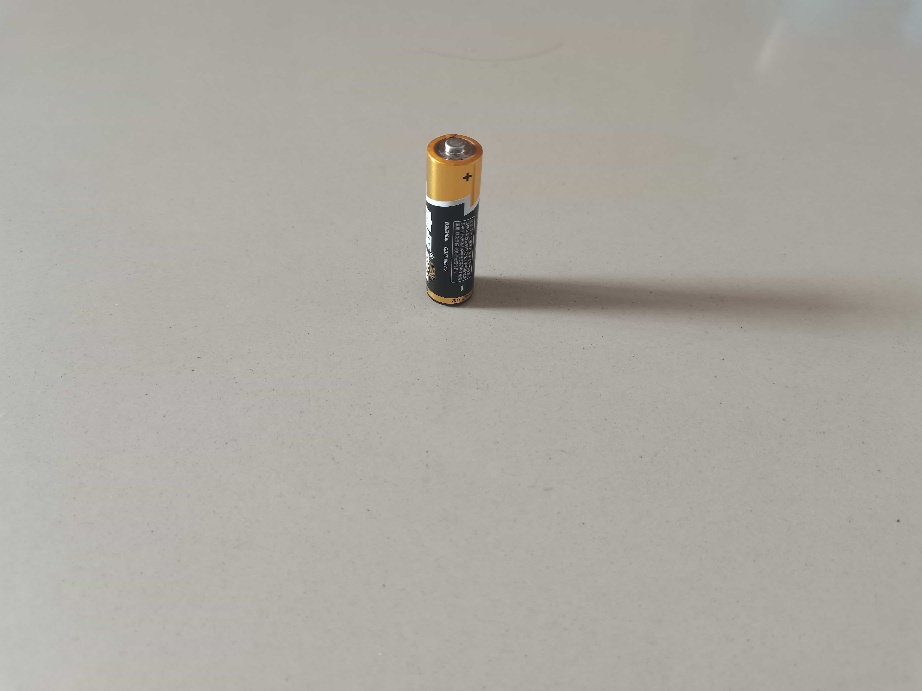battery: (417, 127, 488, 312)
